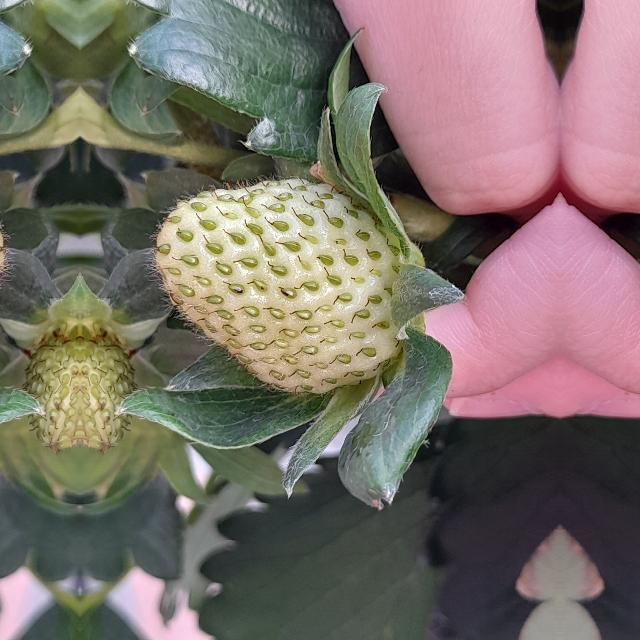Health_25: (144, 173, 402, 397), (80, 316, 134, 452), (26, 316, 80, 452)
